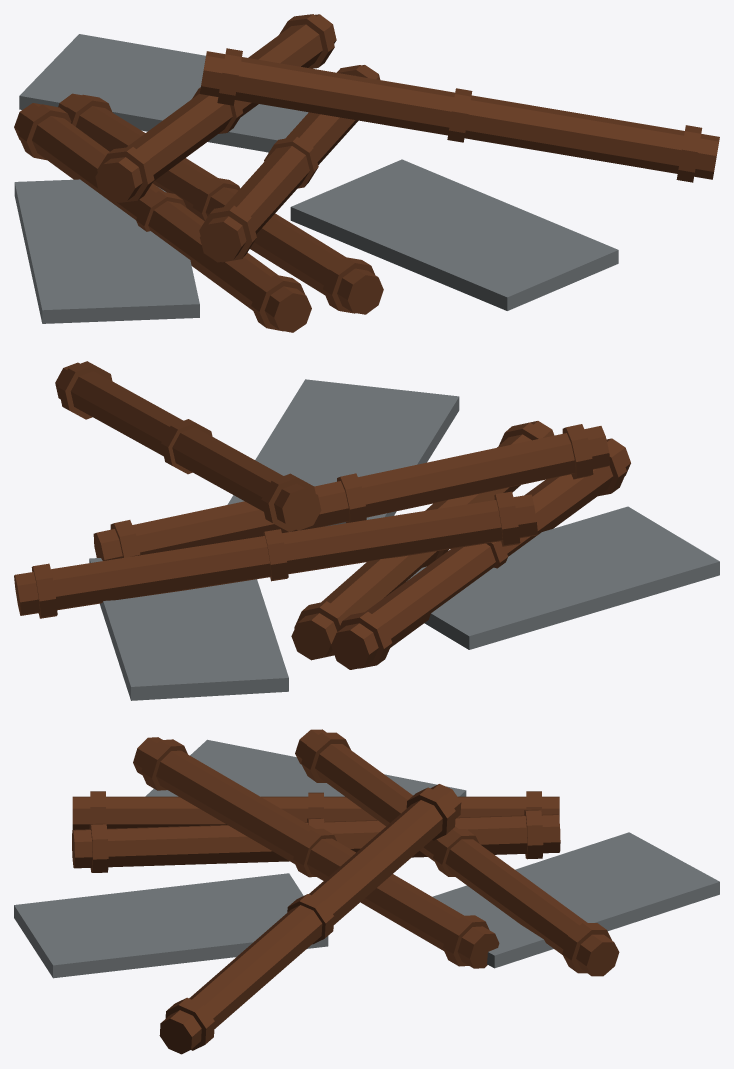
Rendered from MetalScrapV3.gltf.
3 renders of one model, top to bottom at view 1: azimuth 30°, elevation 25°; view 2: azimuth 150°, elevation 25°; view 3: azimuth 270°, elevation 25°, orthographic. The views are drawn at different scales.
Parts seen in each view (by area): view 1: MetalSrapV3; view 2: MetalSrapV3; view 3: MetalSrapV3.
Part boxes in pixels (<box>): MetalSrapV3: <box>14,14,719,332</box>; MetalSrapV3: <box>14,361,719,700</box>; MetalSrapV3: <box>14,729,719,1054</box>.
Bounding box in the file's own units: 4.49 × 0.7492 × 4.39.
